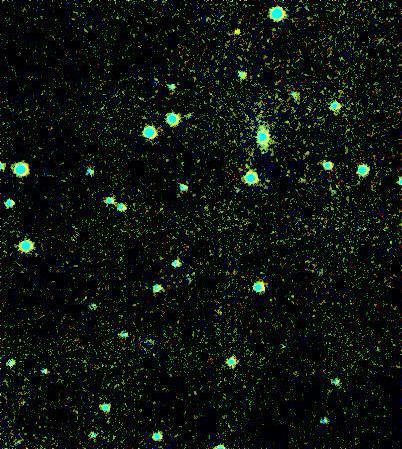star: (223, 16, 253, 46)
